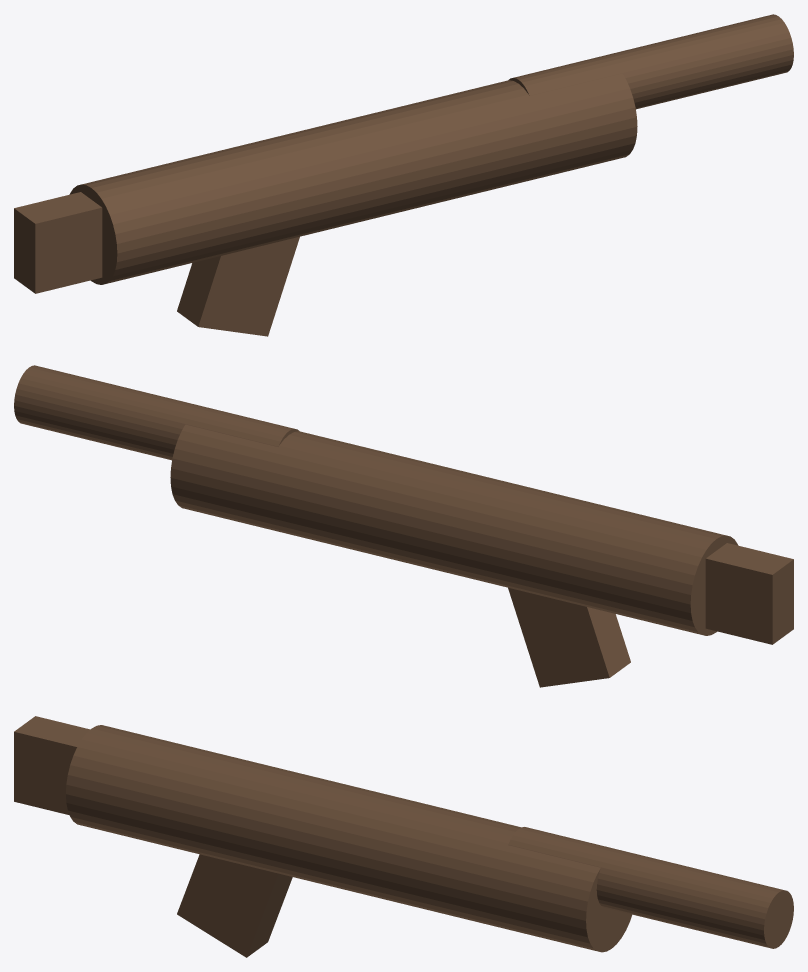
The model's file is W_MayflowerCannon.fbx.
3 renders of one model, top to bottom at view 1: azimuth 30°, elevation 25°; view 2: azimuth 150°, elevation 25°; view 3: azimuth 330°, elevation 25°, orthographic.
Visible parts, largest first — view 1: W_MayflowerCannon; view 2: W_MayflowerCannon; view 3: W_MayflowerCannon.
Boxes of the visible parts, x1,y1,x2,y2 form: W_MayflowerCannon: [14, 14, 793, 336]; W_MayflowerCannon: [14, 365, 793, 687]; W_MayflowerCannon: [14, 716, 793, 957].
Size of the model in its own units: 1.01 by 0.2379 by 0.12.
